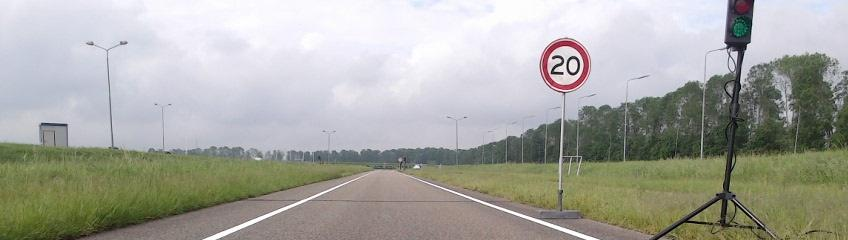Speed-limit-20km-h-: (540, 38, 591, 93)
TrafficLight-green: (726, 0, 753, 44)
